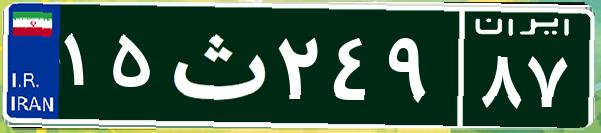1: (57, 26, 110, 107)
2: (273, 28, 330, 110)
4: (330, 28, 385, 110)
5: (110, 28, 158, 105)
7: (525, 38, 570, 115)
8: (475, 38, 525, 113)
9: (385, 28, 445, 110)
ث: (158, 15, 273, 115)
